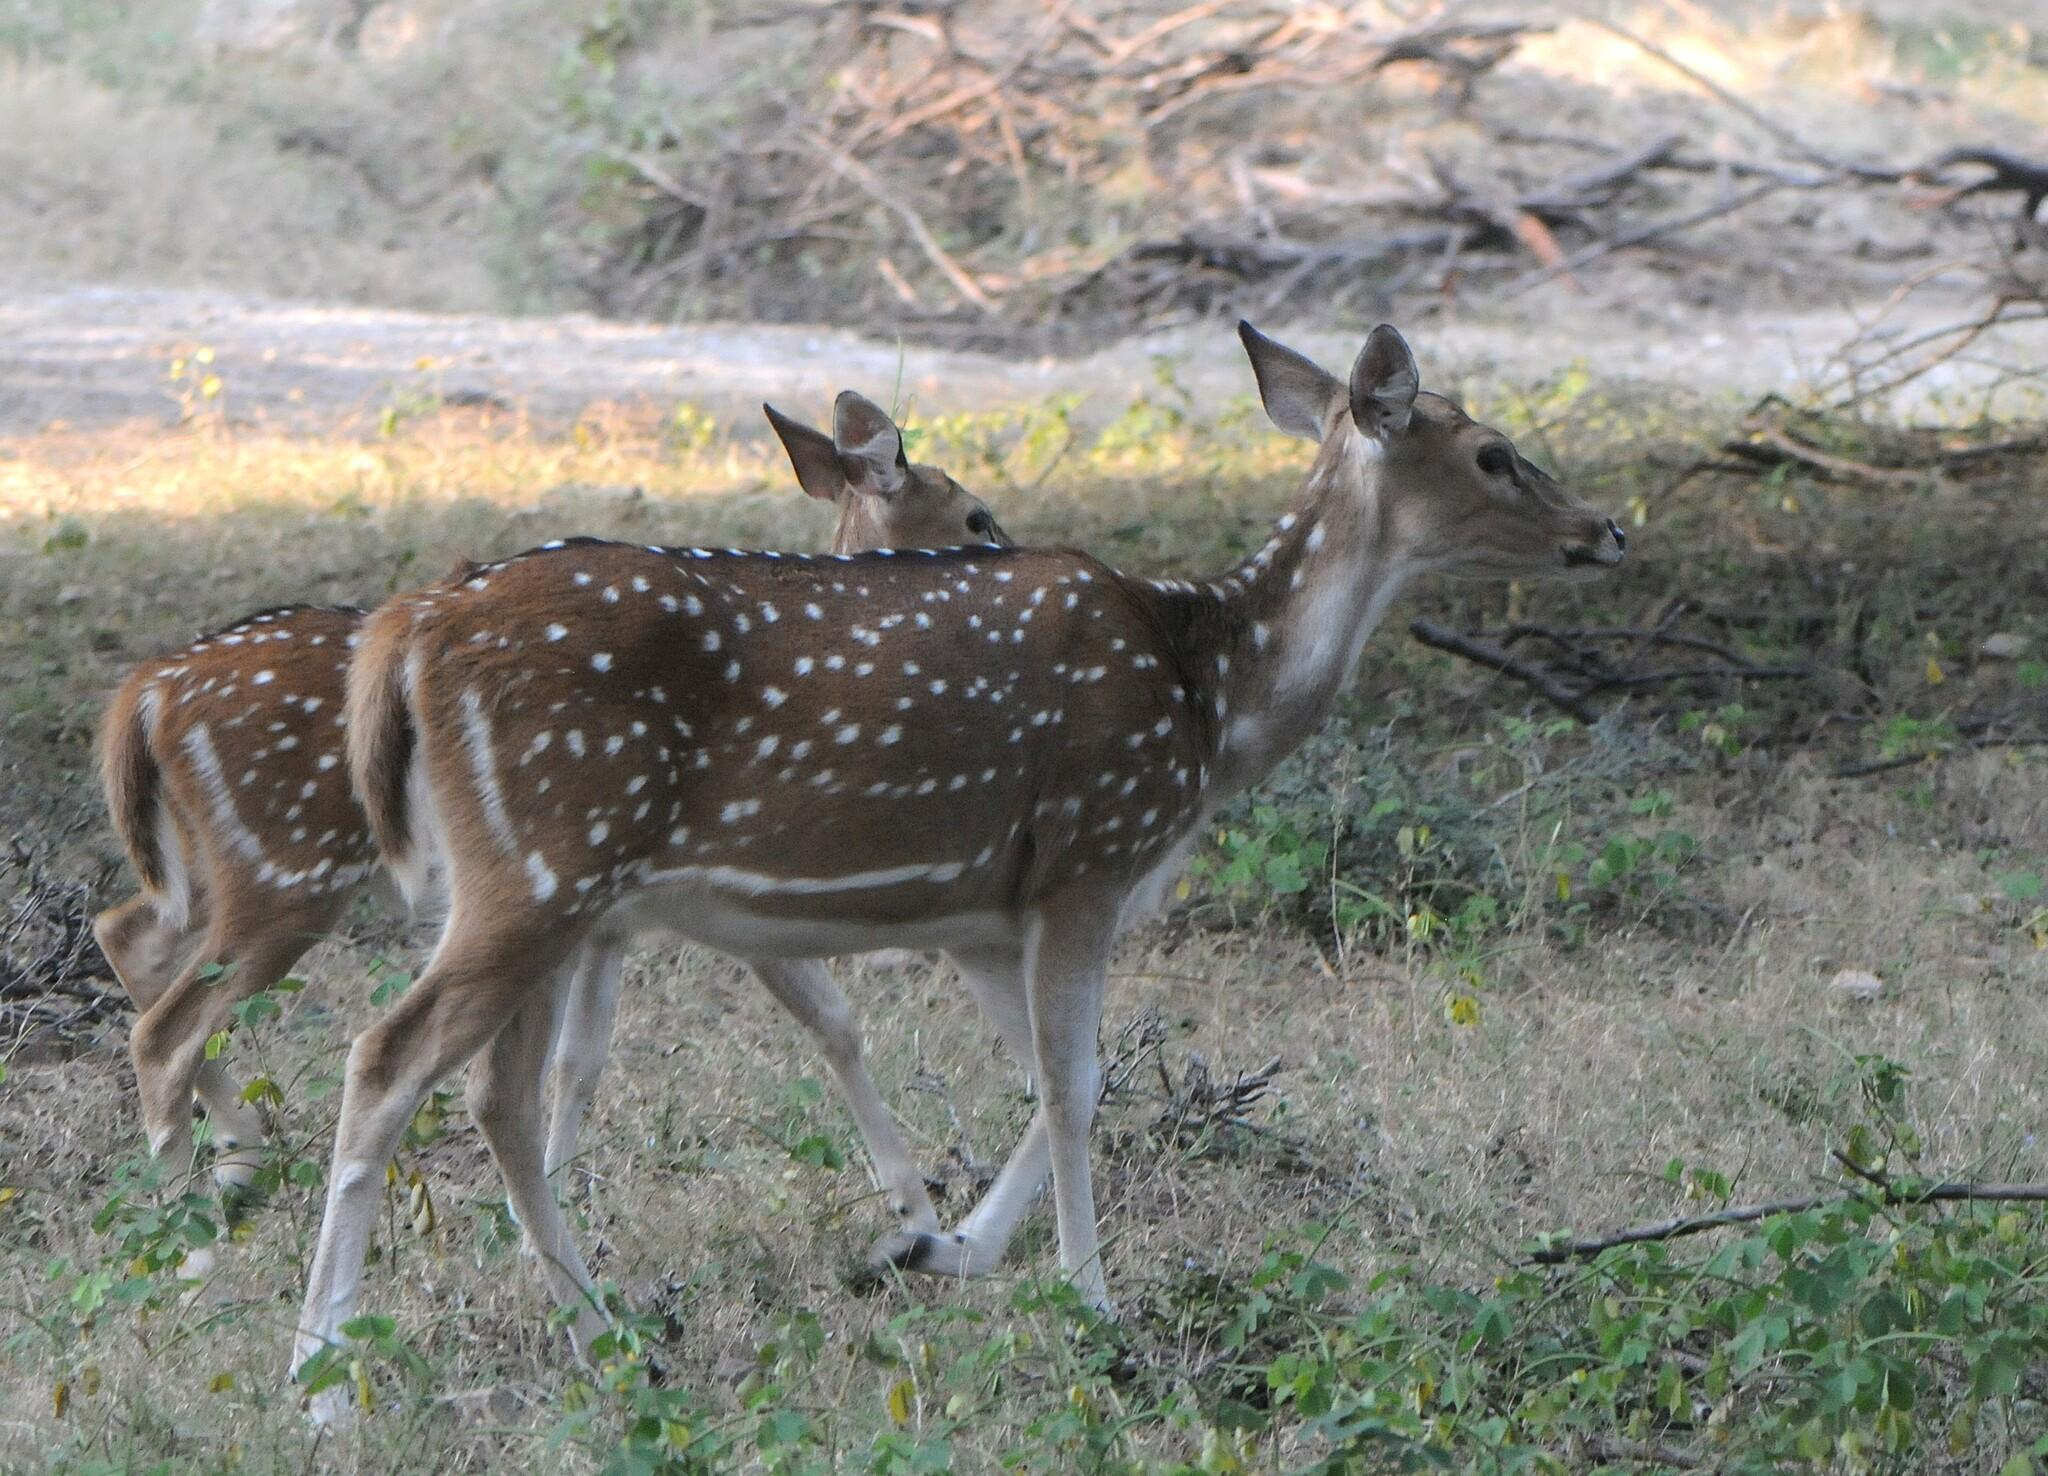Deer: (297, 323, 1623, 1361)
